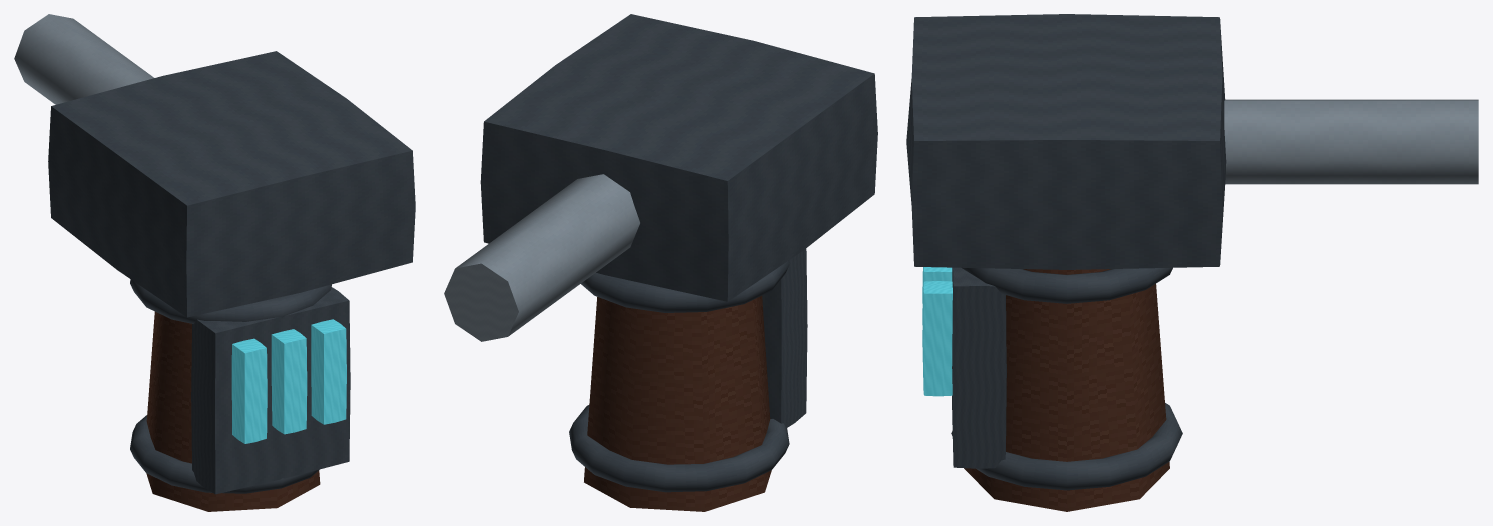
The model's file is shoulder-mount.lod2.glb.
The picture shows the model from 3 angles, left to right: view 1: azimuth 30°, elevation 25°; view 2: azimuth 150°, elevation 25°; view 3: azimuth 270°, elevation 25°; orthographic projection. The views are drawn at different scales.
Visible parts, largest first — view 1: iron.7, iron.3, leather.0, steel.8, crystal.4, crystal.6, crystal.5, iron.2, iron.1; view 2: iron.7, leather.0, steel.8, iron.1, iron.3, iron.2; view 3: iron.7, leather.0, steel.8, iron.3, iron.1, iron.2, crystal.6.
Part boxes in pixels (bbox=[...]): iron.7: bbox=[48, 51, 415, 317]; iron.3: bbox=[191, 287, 350, 494]; leather.0: bbox=[146, 311, 320, 511]; steel.8: bbox=[14, 14, 153, 104]; crystal.4: bbox=[231, 338, 267, 443]; crystal.6: bbox=[311, 319, 346, 424]; crystal.5: bbox=[271, 329, 307, 434]; iron.2: bbox=[130, 279, 331, 323]; iron.1: bbox=[130, 415, 319, 493]; iron.7: bbox=[480, 14, 877, 301]; leather.0: bbox=[584, 296, 771, 511]; steel.8: bbox=[444, 174, 639, 341]; iron.1: bbox=[569, 405, 789, 492]; iron.3: bbox=[762, 248, 807, 427]; iron.2: bbox=[581, 260, 789, 312]; iron.7: bbox=[906, 14, 1226, 269]; leather.0: bbox=[964, 269, 1169, 511]; steel.8: bbox=[1224, 99, 1478, 184]; iron.3: bbox=[952, 267, 1006, 468]; iron.1: bbox=[951, 403, 1182, 490]; iron.2: bbox=[961, 267, 1172, 303]; crystal.6: bbox=[922, 281, 952, 396].
Bounding box in the file's own units: 0.24 × 0.34 × 0.445.
4 materials, 4 textured.
